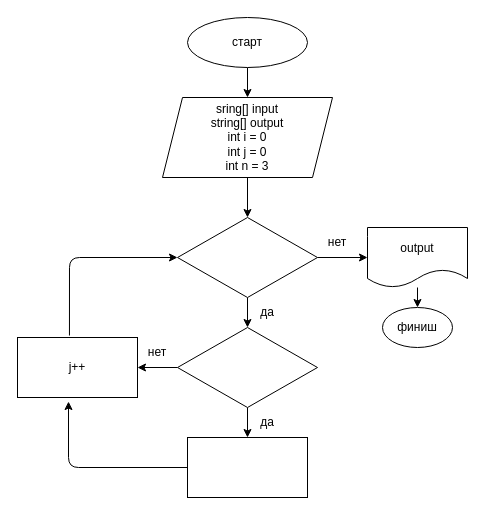
The diagram is 485 pixels wide and 515 high, and some of its shapes have lost their labels. The shapes that lost their labels are listed below. From the top down, each one's centre as x and y in pixels, then its label:
At pixel 247 257: "i < input.Lenght".
At pixel 247 367: "input[i].Lenght <= n".
At pixel 247 467: "output[i] = input[i]".
